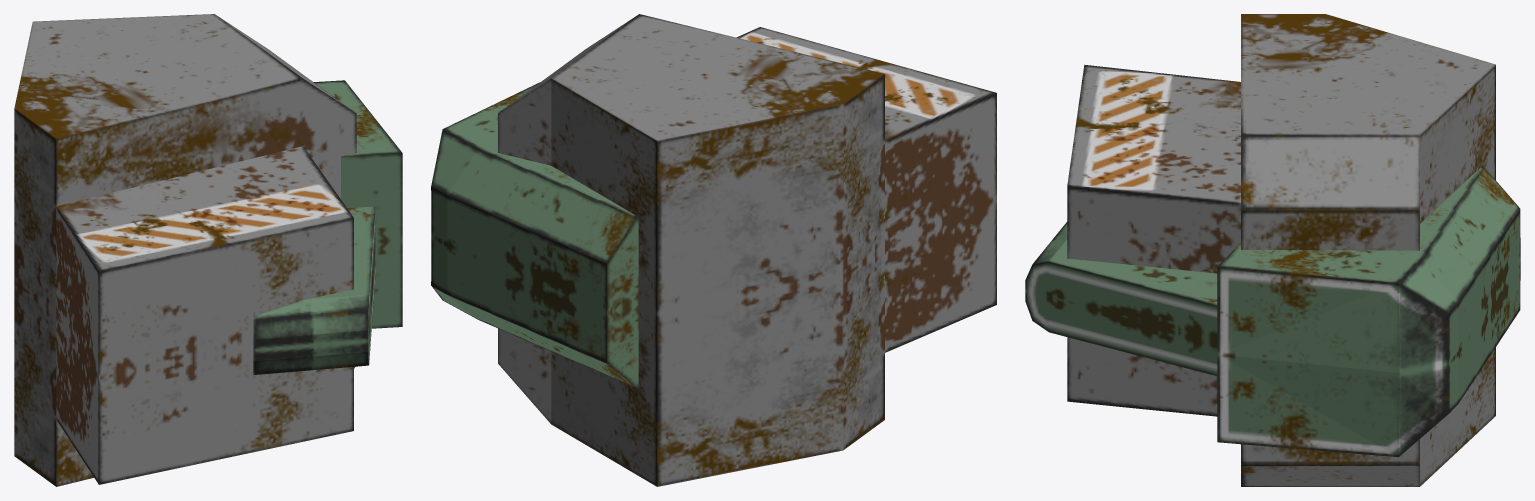
File: SM_Mech_Pelvis.obj
The picture shows the model from 3 angles, left to right: view 1: azimuth 30°, elevation 25°; view 2: azimuth 150°, elevation 25°; view 3: azimuth 270°, elevation 25°; orthographic projection.
Visible parts, largest first — view 1: SM_Mech_Pelvis; view 2: SM_Mech_Pelvis; view 3: SM_Mech_Pelvis.
Boxes of the visible parts, <box> form: SM_Mech_Pelvis: <box>14,14,402,486</box>; SM_Mech_Pelvis: <box>431,14,996,486</box>; SM_Mech_Pelvis: <box>1025,14,1520,486</box>.
Bounding box in the file's own units: 146 × 119 × 152.
Materials: 1 (1 with a texture image).
